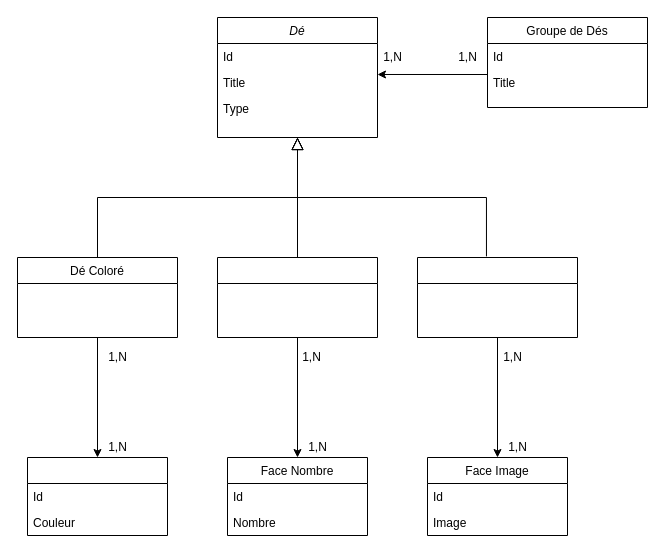
Some shapes in this 665 by 556 pixel diagram are drawn without their labels. The shapes that lost their labels are listed below. From the top down, each one's box as (x1, y1, x2, y2) in pixels, then its label:
(216, 256, 378, 338): Dé Nombre
(416, 256, 578, 338): Dé Image
(26, 456, 168, 536): Face Colorée
